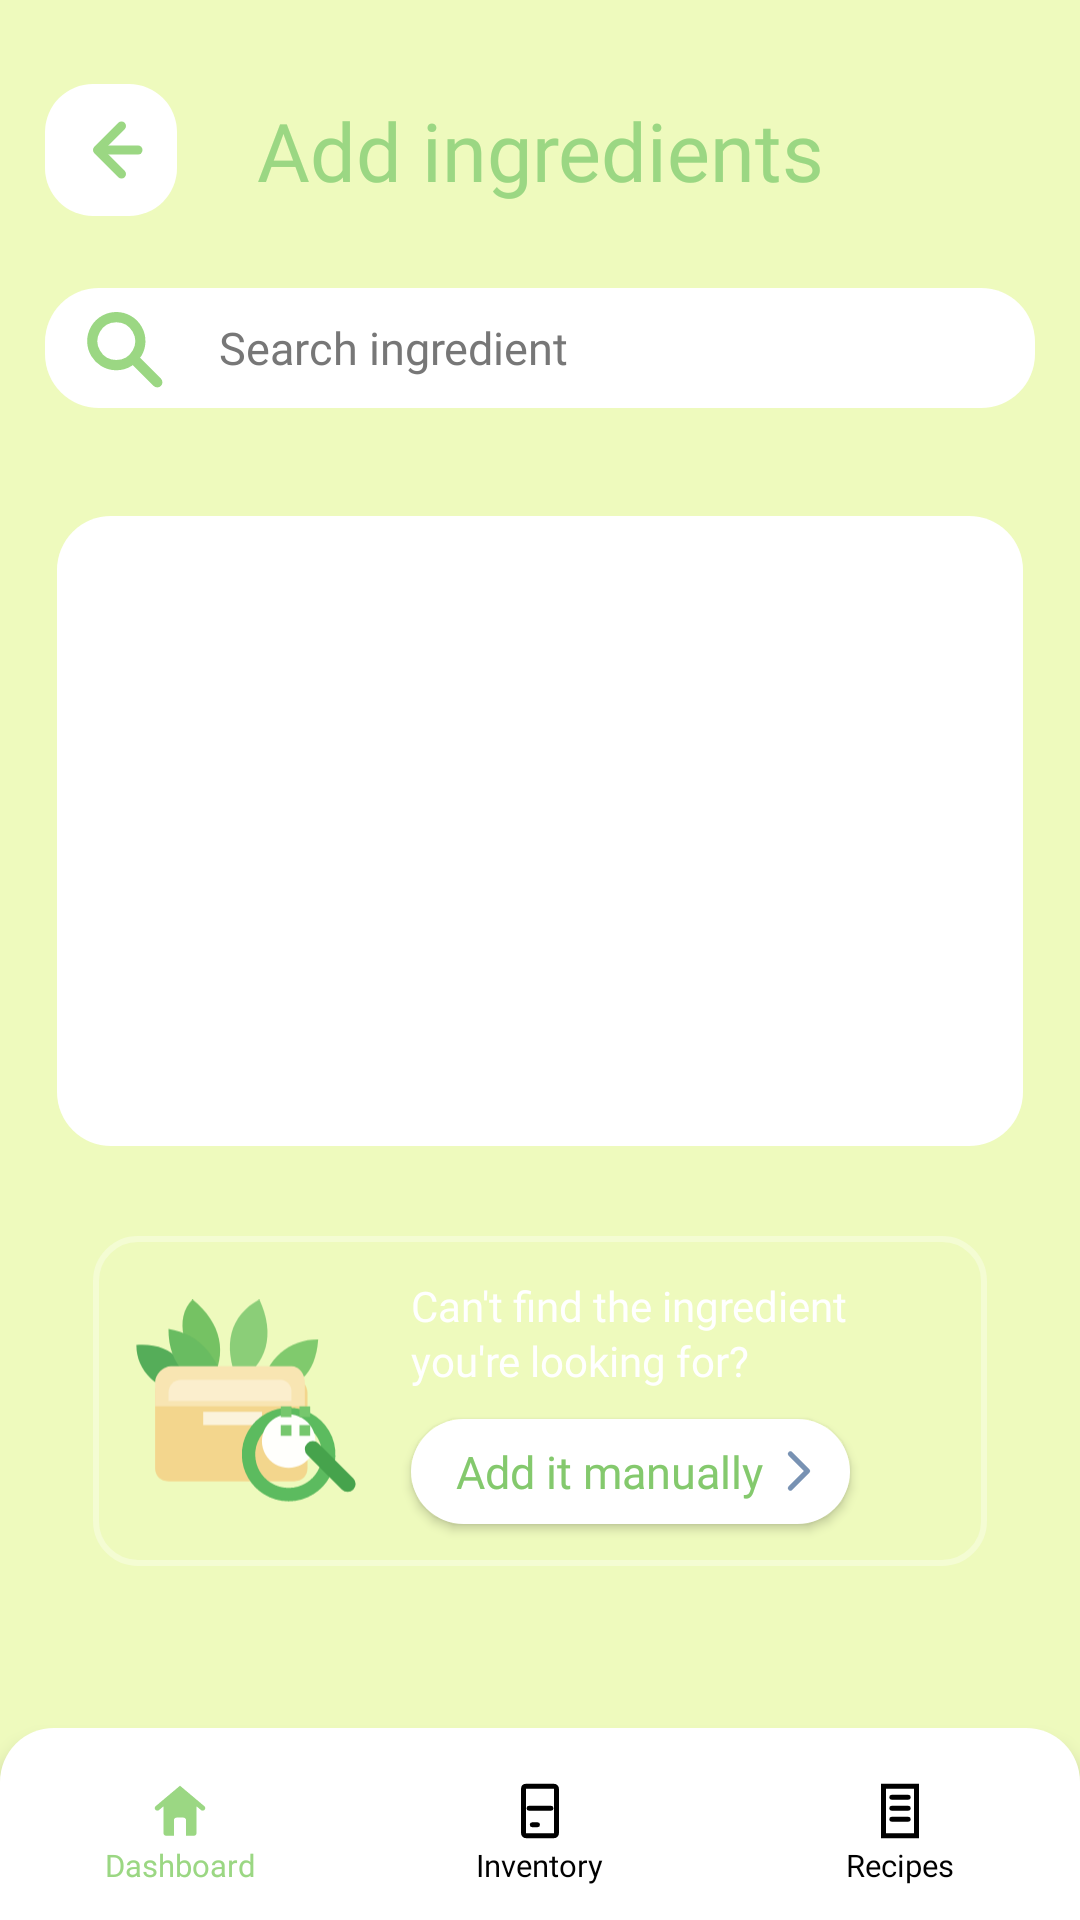

Icons on this 1080 × 1920 Android screen, each with its box as region(x1, y1, x2, y2):
Back: region(45, 84, 177, 216)
home: region(155, 1786, 205, 1836)
manual ingredient search: region(136, 1299, 356, 1502)
